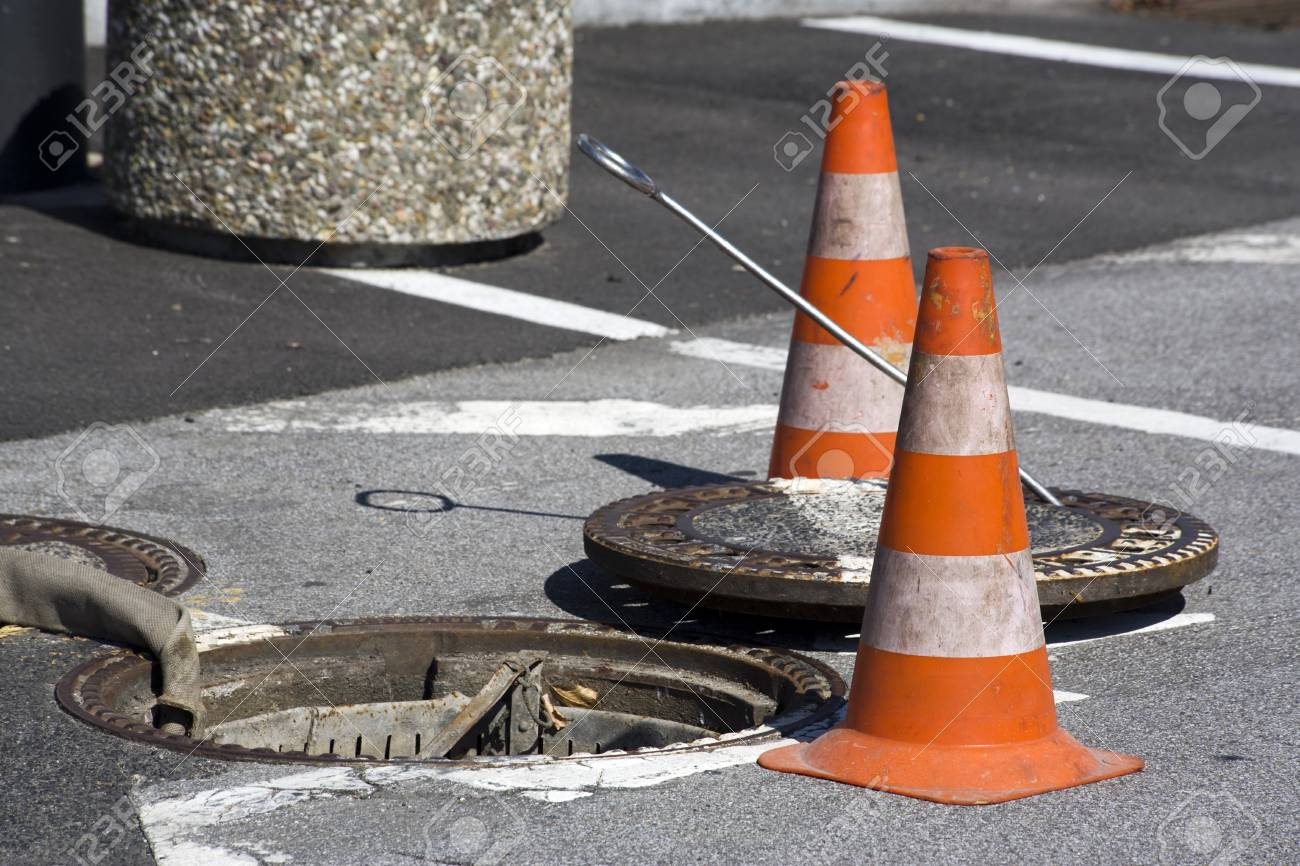Open_manhole: (32, 534, 870, 820)
Road_cone: (802, 245, 1146, 817), (779, 74, 927, 492)
